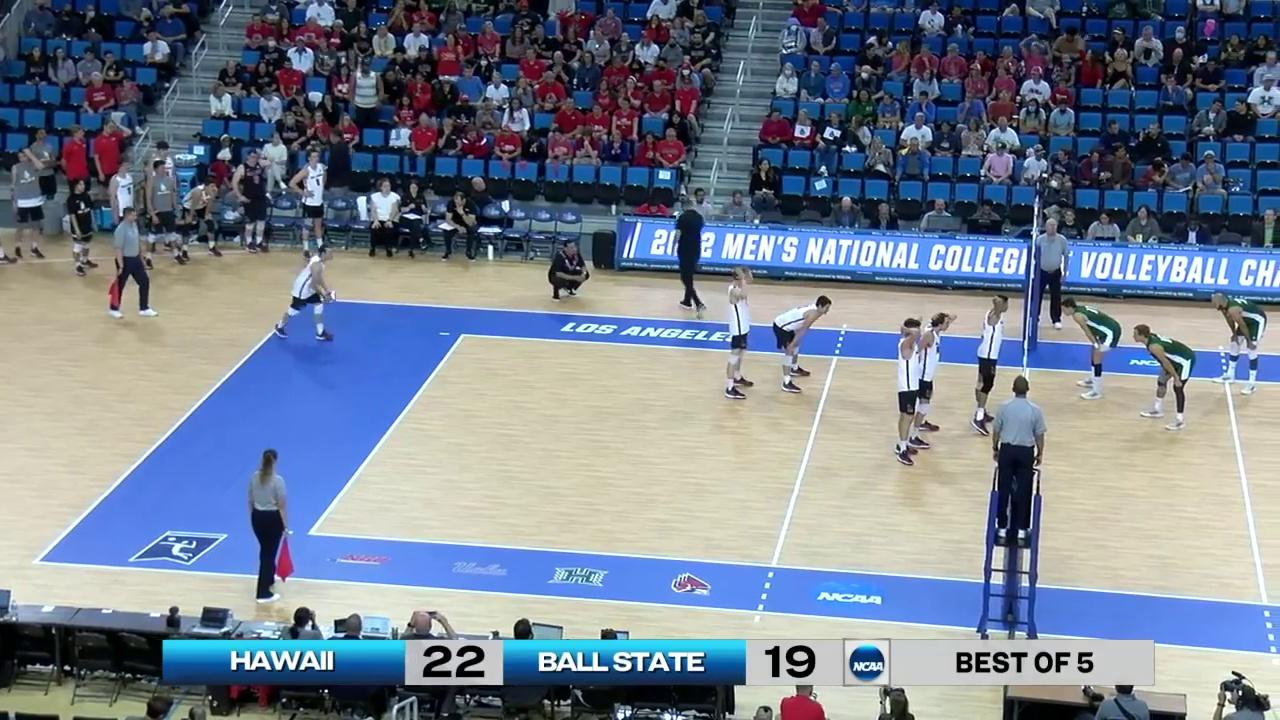player: (1210, 291, 1274, 392), (1132, 324, 1193, 429), (911, 314, 957, 451), (274, 245, 338, 343), (1062, 297, 1122, 401), (770, 295, 831, 394), (971, 296, 1008, 437), (892, 316, 925, 463), (721, 267, 756, 401)
refree: (984, 376, 1044, 543), (245, 448, 292, 599), (106, 206, 158, 320), (1032, 217, 1069, 331)
